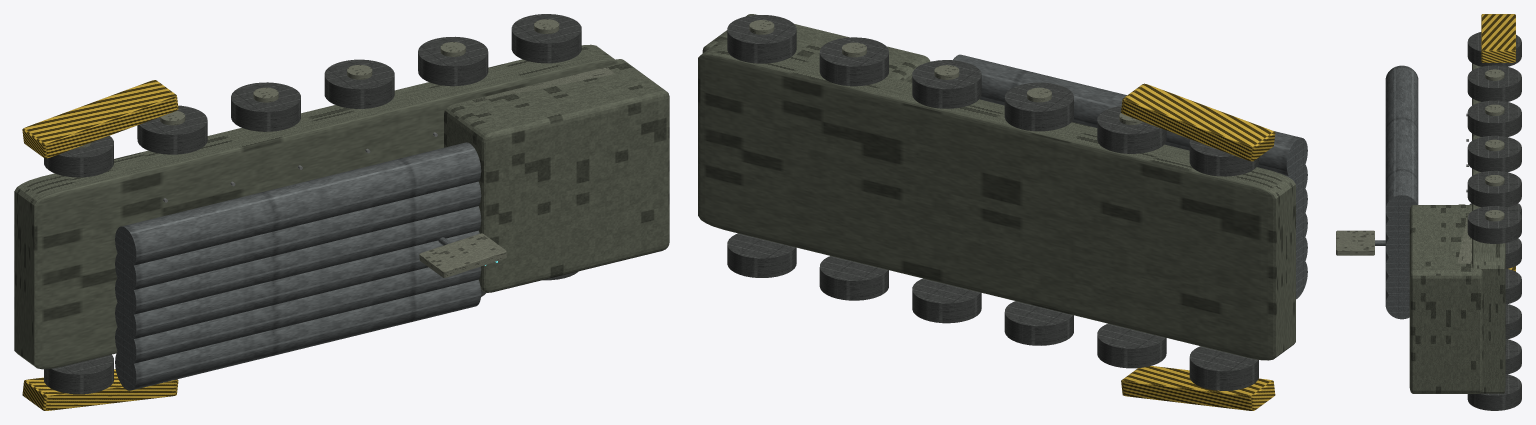
Rendered from v-x02-vanguard-cruise-lod0.glb.
The picture shows the model from 3 angles, left to right: view 1: azimuth 30°, elevation 25°; view 2: azimuth 150°, elevation 25°; view 3: azimuth 270°, elevation 25°; orthographic projection. The views are drawn at different scales.
Parts seen in each view (by area): view 1: strategic_lower, strategic_cab, cruise_canister_5, cruise_canister_0, cruise_canister_4, cruise_canister_3, cruise_canister_1, cruise_canister_2, strategic_jack_1, strategic_wheel_1_5, strategic_wheel_1_3, strategic_wheel_1_4 (+7 smaller); view 2: strategic_lower, strategic_jack_1, cruise_canister_5, strategic_jack_-1, strategic_wheel_1_3, strategic_wheel_1_2, strategic_wheel_1_5, strategic_wheel_1_4, strategic_wheel_-1_0, strategic_wheel_-1_3, strategic_wheel_-1_2, strategic_wheel_-1_1 (+5 smaller); view 3: strategic_cab, cruise_canister_5, strategic_lower, strategic_jack_1, strategic_wheel_1_5, strategic_wheel_1_1, strategic_wheel_1_2, strategic_wheel_1_4, strategic_wheel_1_3, strategic_wheel_-1_5, cruise_radar_array, strategic_wheel_1_0 (+15 smaller).
Part boxes in pixels (x1,y1,x2,y2): strategic_lower: [14, 44, 618, 369]; strategic_cab: [444, 59, 669, 292]; cruise_canister_5: [115, 142, 481, 268]; cruise_canister_0: [115, 279, 481, 390]; cruise_canister_4: [115, 181, 481, 292]; cruise_canister_3: [115, 206, 481, 317]; cruise_canister_1: [115, 266, 481, 365]; cruise_canister_2: [115, 230, 479, 339]; strategic_jack_1: [22, 80, 178, 158]; strategic_wheel_1_5: [511, 14, 581, 63]; strategic_wheel_1_3: [324, 59, 394, 108]; strategic_wheel_1_4: [418, 36, 488, 86]; strategic_lower: [698, 39, 1295, 360]; strategic_jack_1: [1121, 83, 1275, 161]; cruise_canister_5: [953, 54, 1307, 178]; strategic_jack_-1: [1121, 366, 1275, 410]; strategic_wheel_1_3: [912, 60, 981, 108]; strategic_wheel_1_2: [1004, 82, 1073, 131]; strategic_wheel_1_5: [727, 15, 796, 63]; strategic_wheel_1_4: [819, 37, 888, 86]; strategic_wheel_-1_0: [1189, 346, 1258, 390]; strategic_wheel_-1_3: [912, 278, 981, 323]; strategic_wheel_-1_2: [1004, 301, 1073, 345]; strategic_wheel_-1_1: [1097, 323, 1166, 368]; strategic_cab: [1409, 205, 1483, 393]; cruise_canister_5: [1385, 65, 1418, 224]; strategic_lower: [1472, 63, 1505, 393]; strategic_jack_1: [1481, 14, 1515, 62]; strategic_wheel_1_5: [1467, 206, 1521, 243]; strategic_wheel_1_1: [1467, 65, 1521, 101]; strategic_wheel_1_2: [1467, 100, 1521, 136]; strategic_wheel_1_4: [1467, 170, 1521, 207]; strategic_wheel_1_3: [1467, 135, 1521, 172]; strategic_wheel_-1_5: [1467, 374, 1521, 410]; cruise_radar_array: [1336, 230, 1374, 255]; strategic_wheel_1_0: [1467, 32, 1521, 66].
Size of what is drawn, in the model's own units: 10.41 by 5.01 by 3.65.
7 materials, 7 textured.
